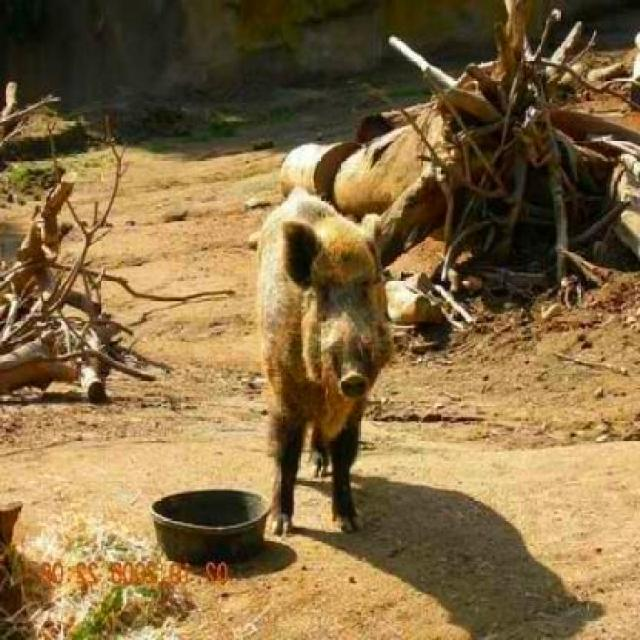Boar: (245, 189, 403, 540)
